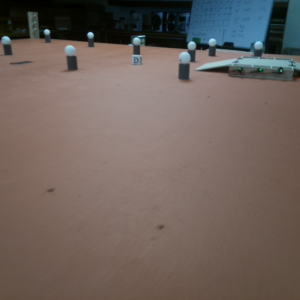obstacle: (178, 53, 190, 80), (63, 45, 77, 68), (187, 41, 196, 60), (208, 38, 217, 56), (253, 41, 262, 59), (3, 35, 11, 55), (133, 36, 141, 54), (88, 32, 95, 46), (44, 28, 51, 41)
side: (229, 65, 294, 79)
slope: (198, 60, 230, 74)
